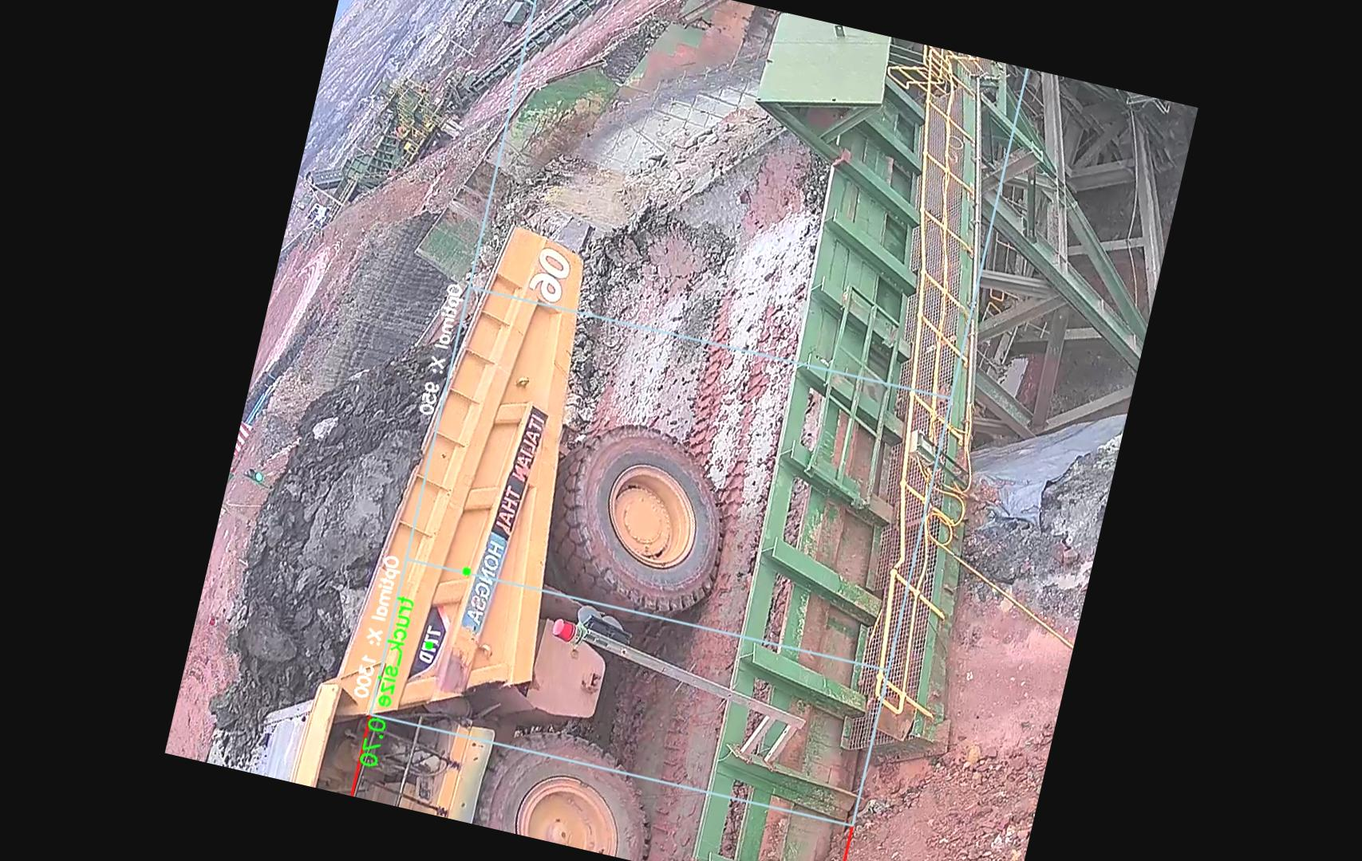company: (454, 392, 554, 646)
full_load: (222, 346, 417, 680)
mining_truck: (188, 175, 792, 861)
tail_number: (518, 239, 578, 309)
truck_size: (411, 616, 449, 671)
